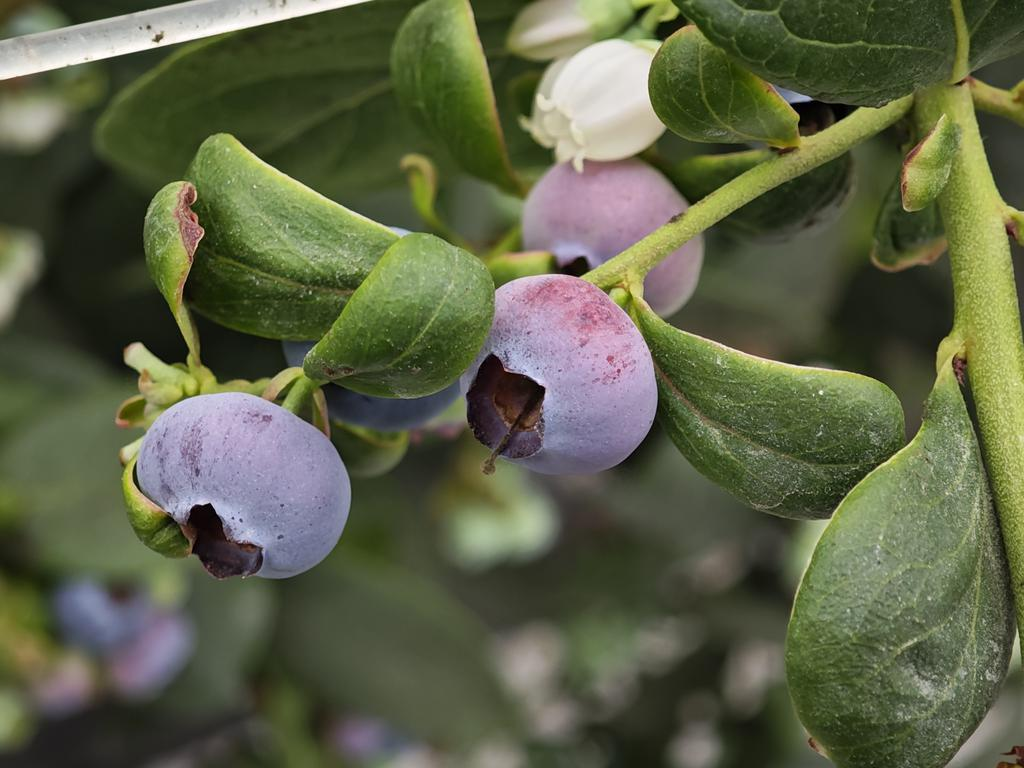RipeBlueBerry: (132, 386, 354, 581)
Semi-RipeBlueBerry: (456, 268, 664, 480)
